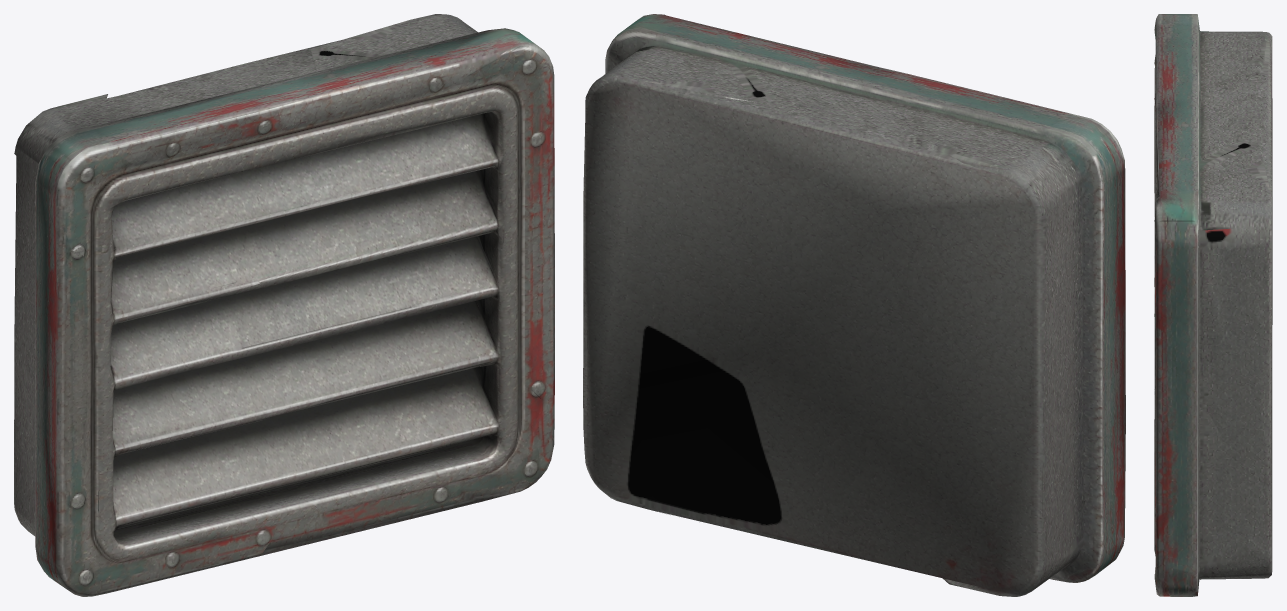
The model's file is Meshy_AI_Rusted_Metal_Louver_V_0625183259_texture.fbx.
3 renders of one model, left to right at view 1: azimuth 30°, elevation 25°; view 2: azimuth 150°, elevation 25°; view 3: azimuth 270°, elevation 25°, orthographic. The views are drawn at different scales.
Visible parts, largest first — view 1: Mesh1.0; view 2: Mesh1.0; view 3: Mesh1.0.
Boxes of the visible parts, <box> form: Mesh1.0: <box>14,14,554,596</box>; Mesh1.0: <box>583,14,1125,596</box>; Mesh1.0: <box>1154,14,1272,596</box>.
Bounding box in the file's own units: 192 × 166 × 44.99.
1 material, 1 textured.
